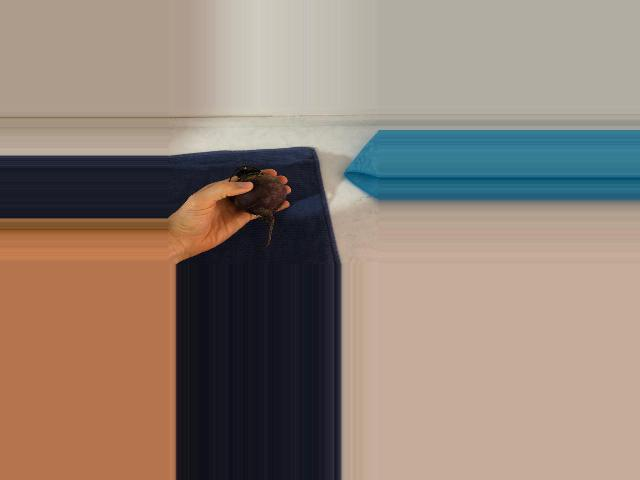beet: (228, 166, 286, 248)
